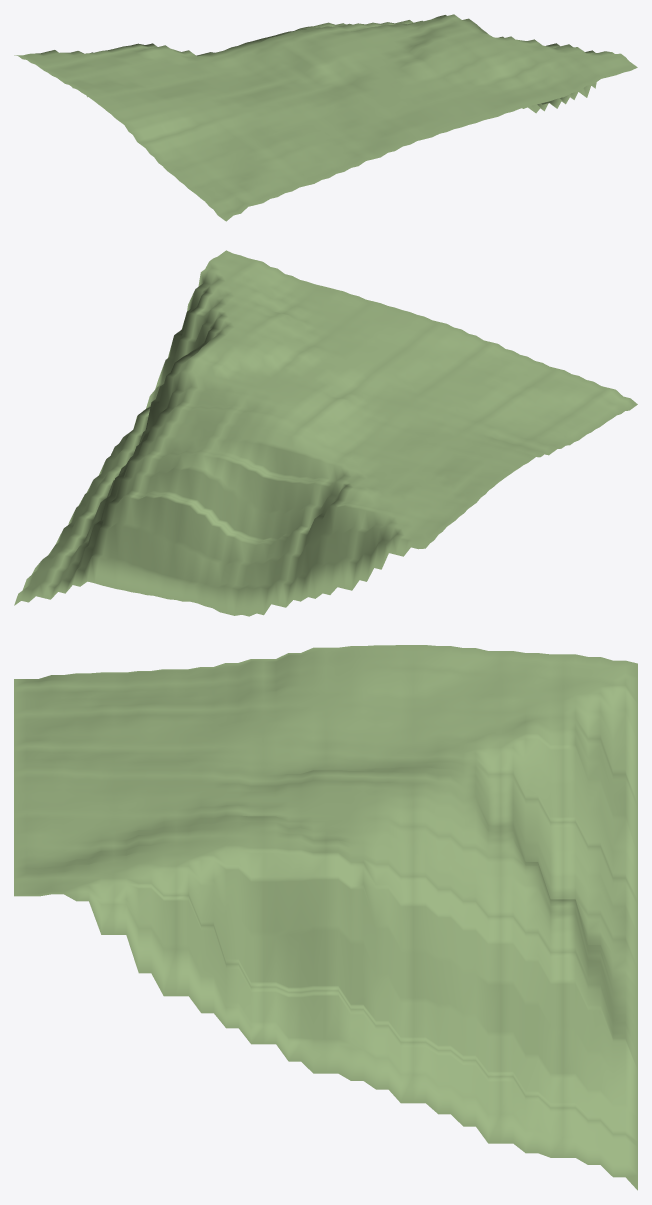
The model's file is parcelle_AW0194.obj.
3 views of the same model, one above another, from view 1: azimuth 30°, elevation 25°; view 2: azimuth 150°, elevation 25°; view 3: azimuth 270°, elevation 25° (orthographic). The views are drawn at different scales.
Size of the model in its own units: 112 by 52.44 by 100.
